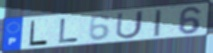6: (177, 5, 204, 36), (88, 13, 112, 42)
I: (153, 9, 163, 38)
L: (57, 18, 81, 44), (28, 19, 49, 47)
U: (114, 9, 146, 40)
